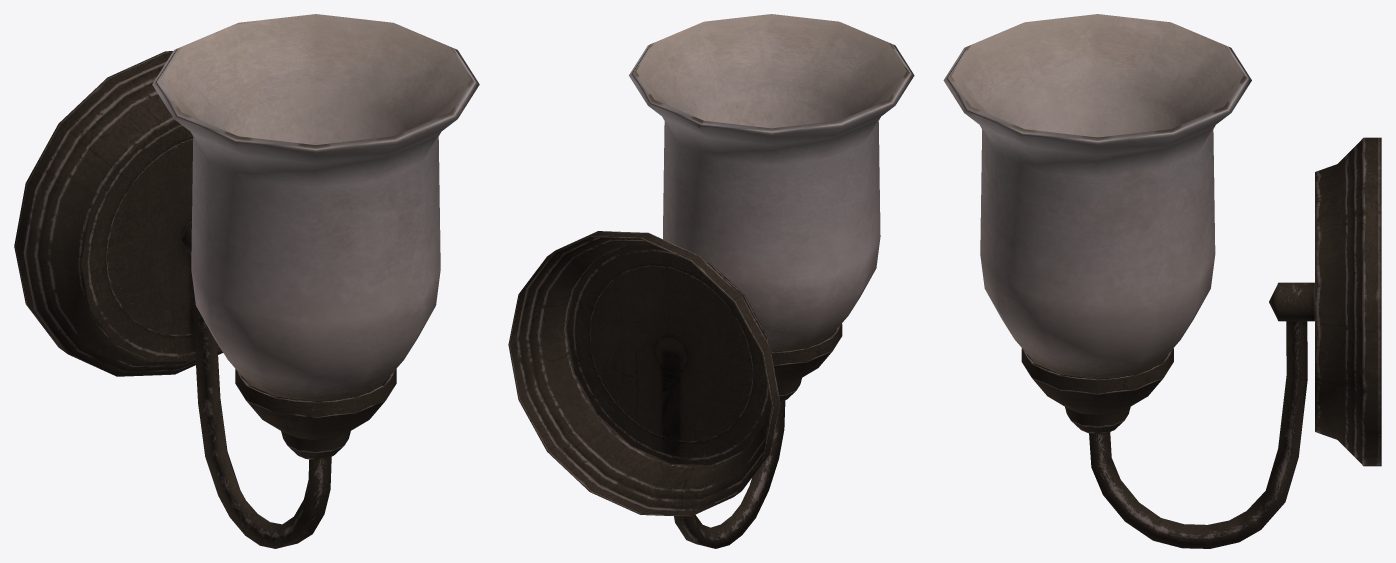
The model's file is LightNew.fbx.
3 renders of one model, left to right at view 1: azimuth 30°, elevation 25°; view 2: azimuth 150°, elevation 25°; view 3: azimuth 270°, elevation 25°, orthographic. The views are drawn at different scales.
Visible parts, largest first — view 1: e_low; view 2: e_low; view 3: e_low.
Boxes of the visible parts, x1,y1,x2,y2 form: e_low: (14,14,479,548); e_low: (508,14,914,548); e_low: (943,14,1381,548).
Bounding box in the file's own units: 17.49 × 27.47 × 23.3.
1 material, 1 textured.
